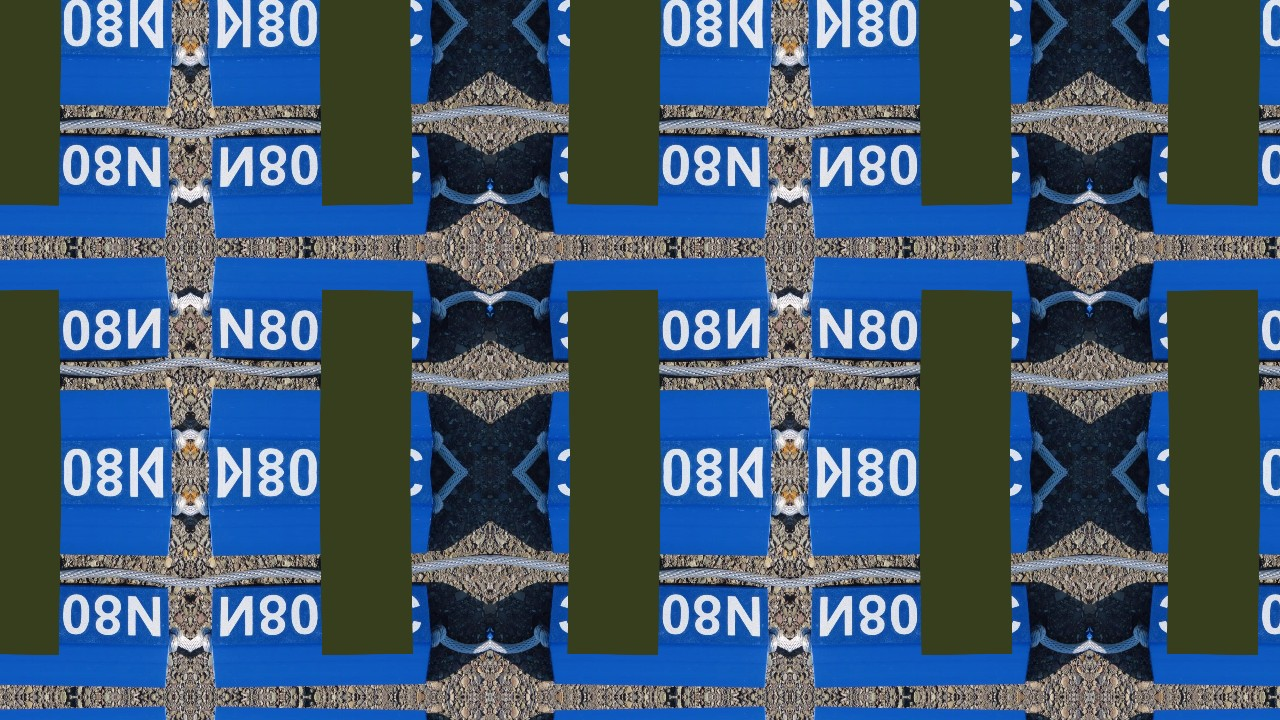chock: (209, 133, 430, 241), (550, 133, 771, 241), (809, 133, 1030, 241), (209, 254, 430, 362), (550, 254, 771, 362), (809, 254, 1030, 362), (209, 583, 430, 691), (550, 583, 771, 691), (809, 583, 1030, 691), (206, 22, 433, 110), (547, 22, 774, 110), (806, 22, 1033, 110), (206, 385, 433, 473), (547, 385, 774, 473), (806, 385, 1033, 473), (206, 472, 433, 560), (547, 472, 774, 560), (806, 472, 1033, 560), (0, 133, 171, 241), (0, 254, 171, 362), (0, 583, 171, 691), (0, 22, 174, 110), (0, 385, 174, 473), (0, 472, 174, 560), (1150, 133, 1280, 241), (1150, 254, 1280, 362), (1150, 583, 1280, 691), (1147, 22, 1280, 110), (1147, 385, 1280, 473), (1147, 472, 1280, 560), (206, 0, 433, 22), (547, 0, 774, 22), (806, 0, 1033, 22), (0, 0, 174, 22), (209, 704, 430, 720), (550, 704, 771, 720), (809, 704, 1030, 720), (1147, 0, 1280, 22), (0, 704, 171, 720), (1150, 704, 1280, 720)
